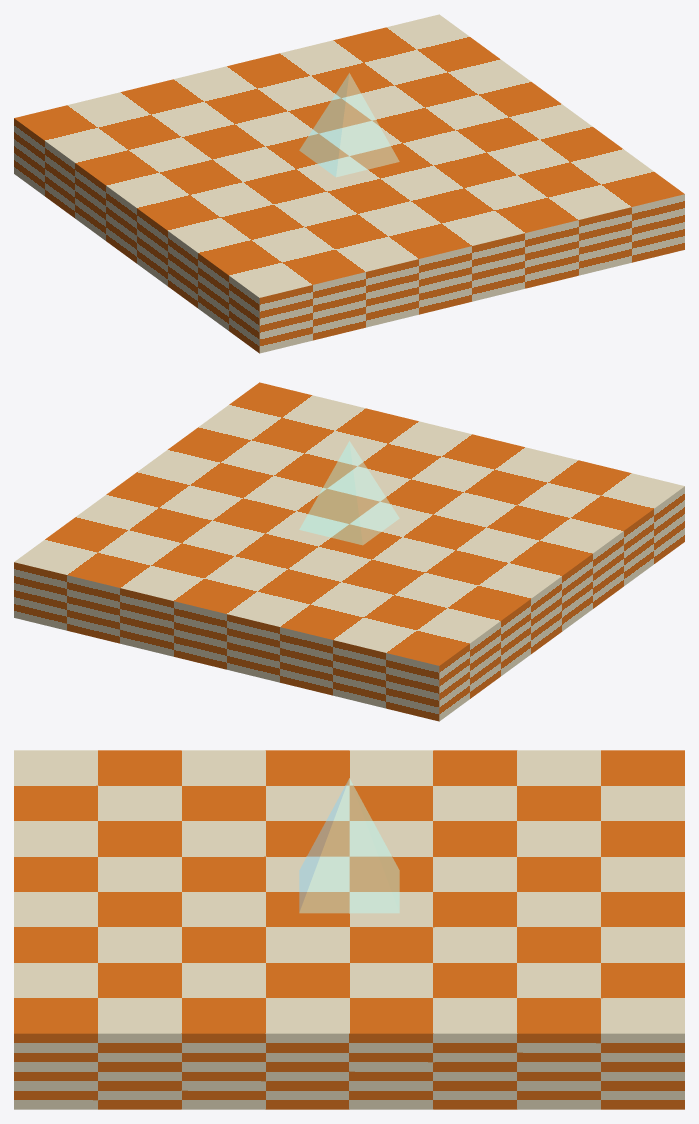
Rendered from Platform.gltf.
The picture shows the model from 3 angles, top to bottom: view 1: azimuth 30°, elevation 25°; view 2: azimuth 150°, elevation 25°; view 3: azimuth 270°, elevation 25°; orthographic projection. The views are drawn at different scales.
Parts seen in each view (by area): view 1: Platform, Beacon; view 2: Platform, Beacon; view 3: Platform, Beacon.
Part boxes in pixels (<box>): Platform: <box>14,14,684,353</box>; Beacon: <box>299,73,399,176</box>; Platform: <box>14,382,684,721</box>; Beacon: <box>299,441,399,544</box>; Platform: <box>14,750,684,1109</box>; Beacon: <box>299,778,399,912</box>.
Bounding box in the file's own units: 4 × 1.25 × 4.
Materials: 2 (1 with a texture image).
